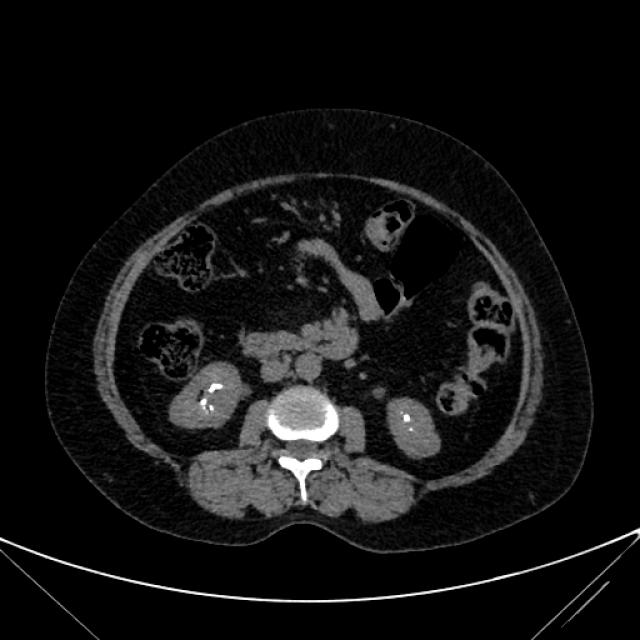kidney: (169, 361, 247, 431), (390, 400, 442, 460)
stone: (210, 382, 223, 392), (401, 412, 411, 424), (200, 397, 208, 407), (209, 404, 216, 412), (409, 427, 414, 431)
